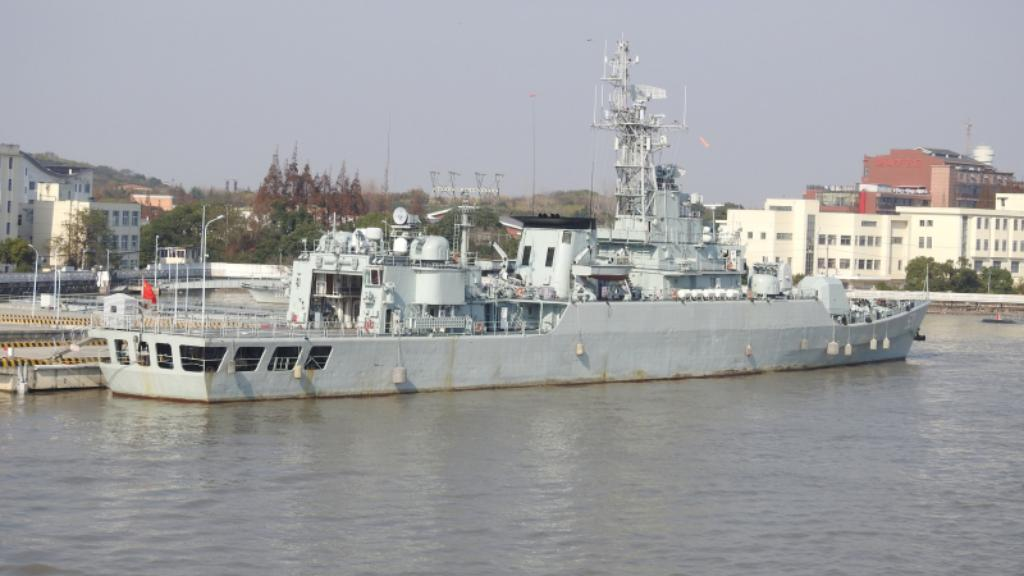Warship: (90, 22, 932, 408)
